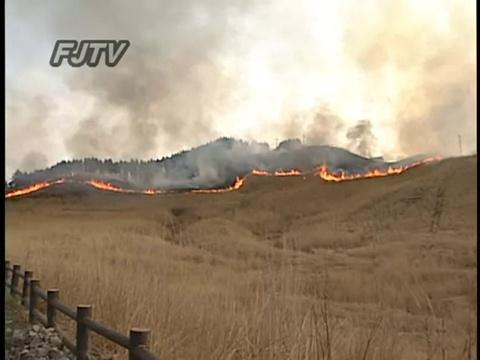smoke: (415, 46, 474, 146), (69, 5, 186, 38)
